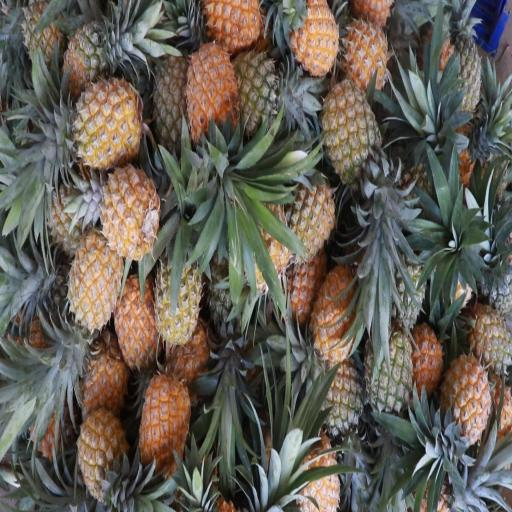------------------------------: (316, 48, 382, 172), (58, 0, 133, 90), (150, 234, 200, 349), (227, 47, 287, 131), (459, 290, 512, 372)
Pineapple - v8 v1: (48, 74, 142, 174), (282, 394, 341, 512), (100, 159, 162, 271), (61, 228, 122, 340), (172, 18, 234, 127), (305, 236, 363, 352), (132, 368, 189, 476), (438, 342, 488, 458), (73, 413, 131, 512), (275, 154, 332, 251), (111, 268, 163, 368), (288, 0, 344, 91), (336, 0, 399, 78)
